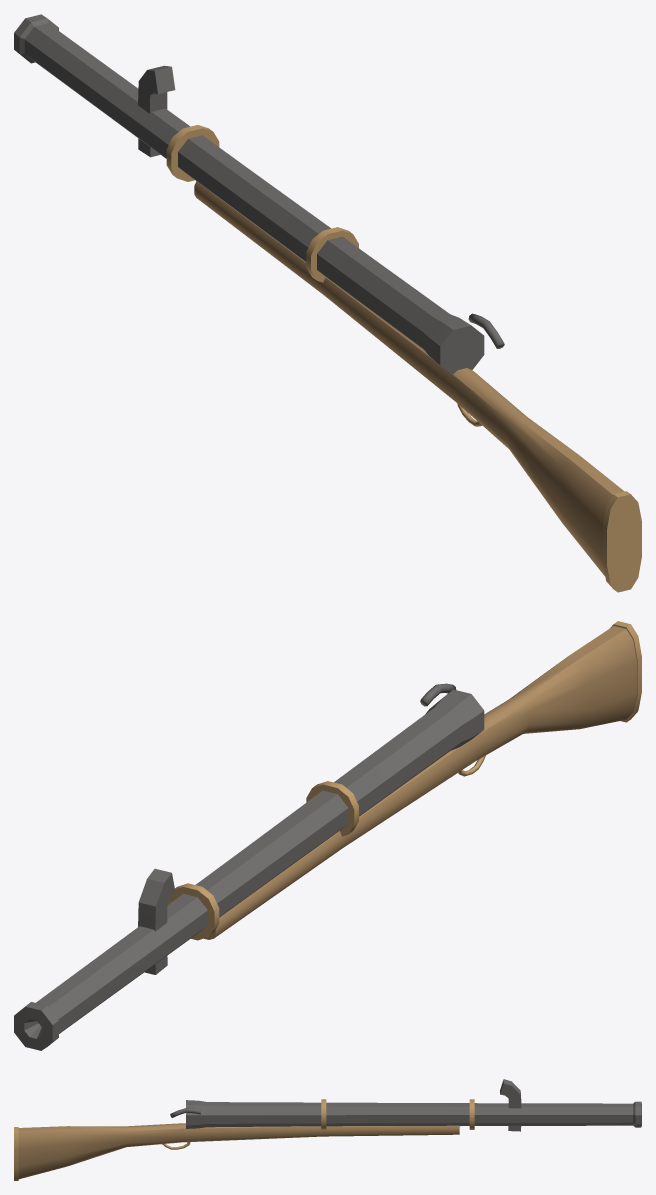
Rendered from culverin.glb.
3 renders of one model, top to bottom at view 1: azimuth 30°, elevation 25°; view 2: azimuth 150°, elevation 25°; view 3: azimuth 270°, elevation 25°, orthographic. The views are drawn at different scales.
Visible parts, largest first — view 1: culverin; view 2: culverin; view 3: culverin.
Part boxes in pixels (box(x1,y1,x2,y2)): culverin: box(14, 14, 641, 592); culverin: box(14, 621, 641, 1050); culverin: box(14, 1079, 641, 1180).
Size of the model in its own units: 0.1513 by 0.5103 by 2.96.
